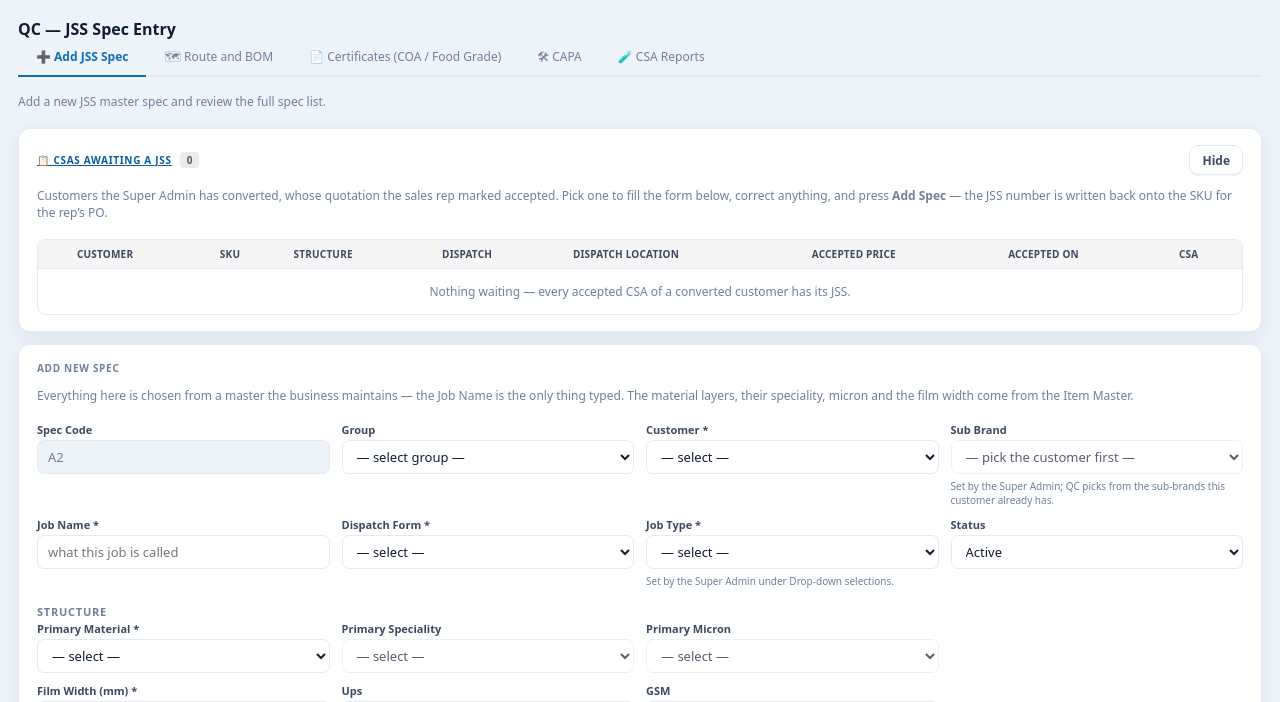
Test: QC — the spec form types nothing but the job name › narrows speciality, micron and film width — and says which width a layer is missing
The width and height of the screenshot is (1280, 702).
Expected: the text "Add New Spec" is shown, [37,361,120,375]
Step 1. Select "Lami Pouch" in the dropdown named "Job Type" → coordinates (792, 552), box [646,535,938,569]
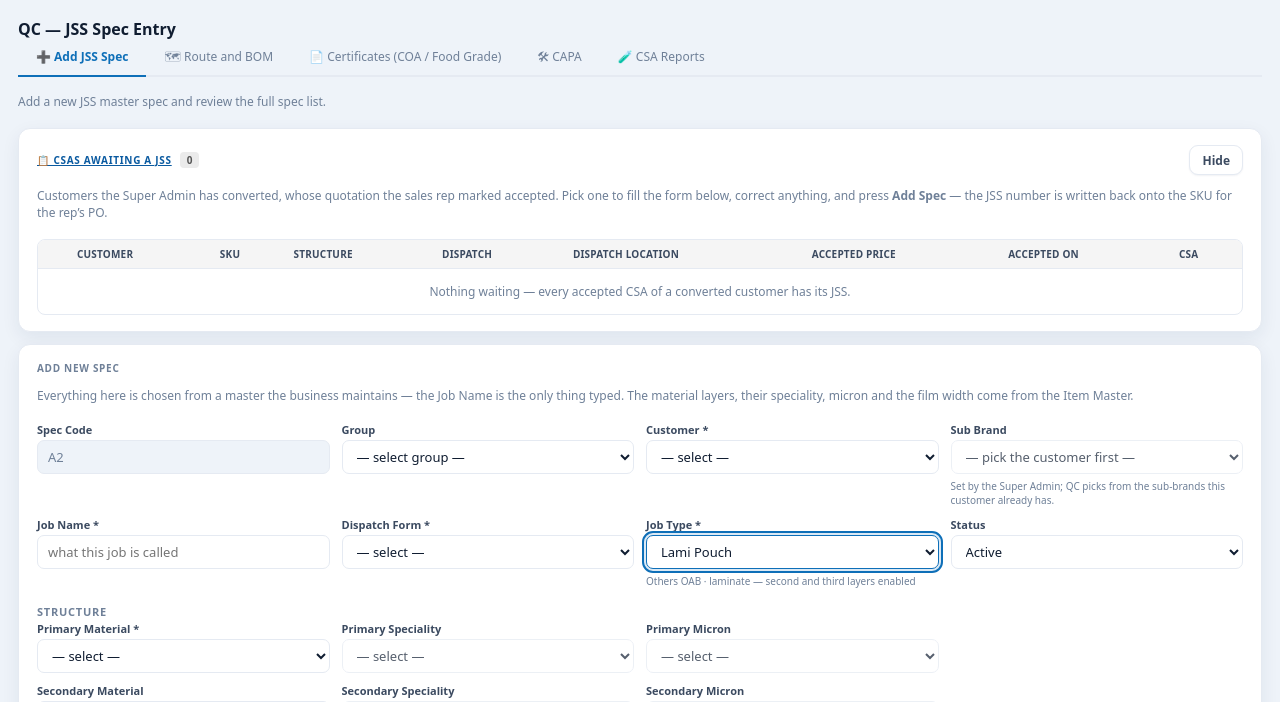
Step 2. Select "CC PET" in the dropdown named "Primary Material" → coordinates (183, 656), box [37,639,330,673]
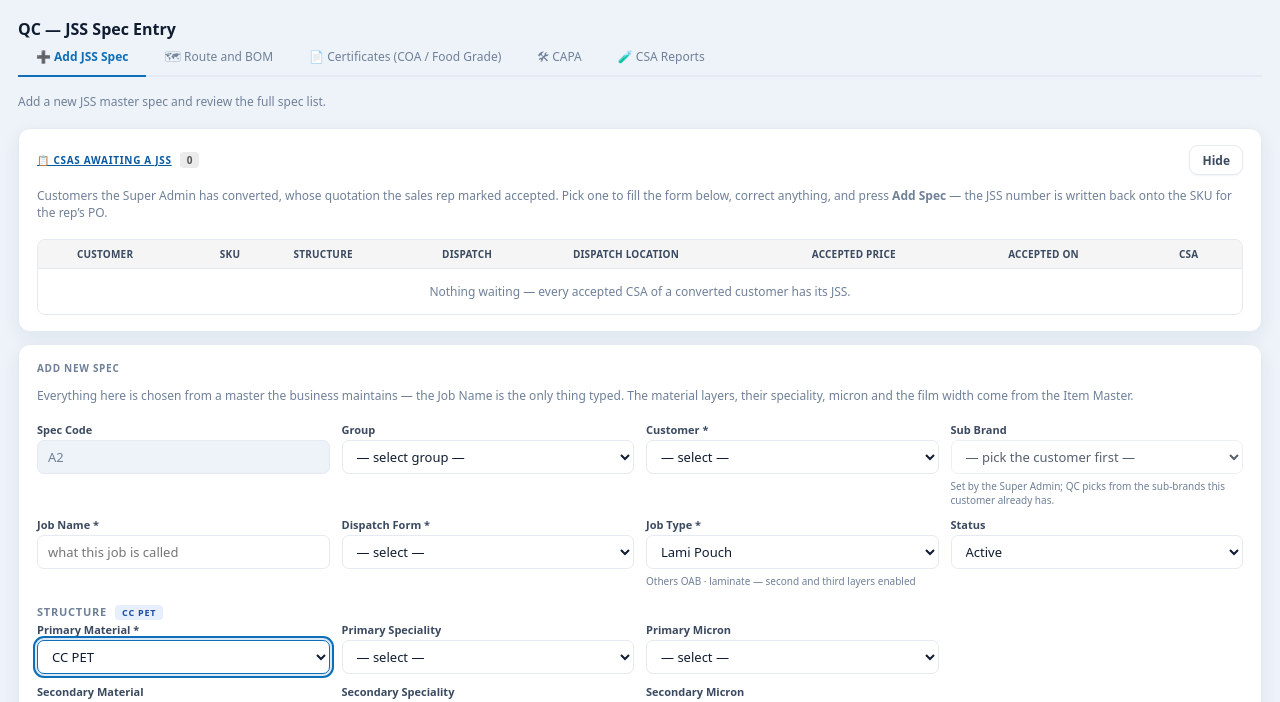
Step 3. Select "PLAIN" in the dropdown named "Primary Speciality" → coordinates (488, 657), box [342,640,634,674]
(page scrolled)
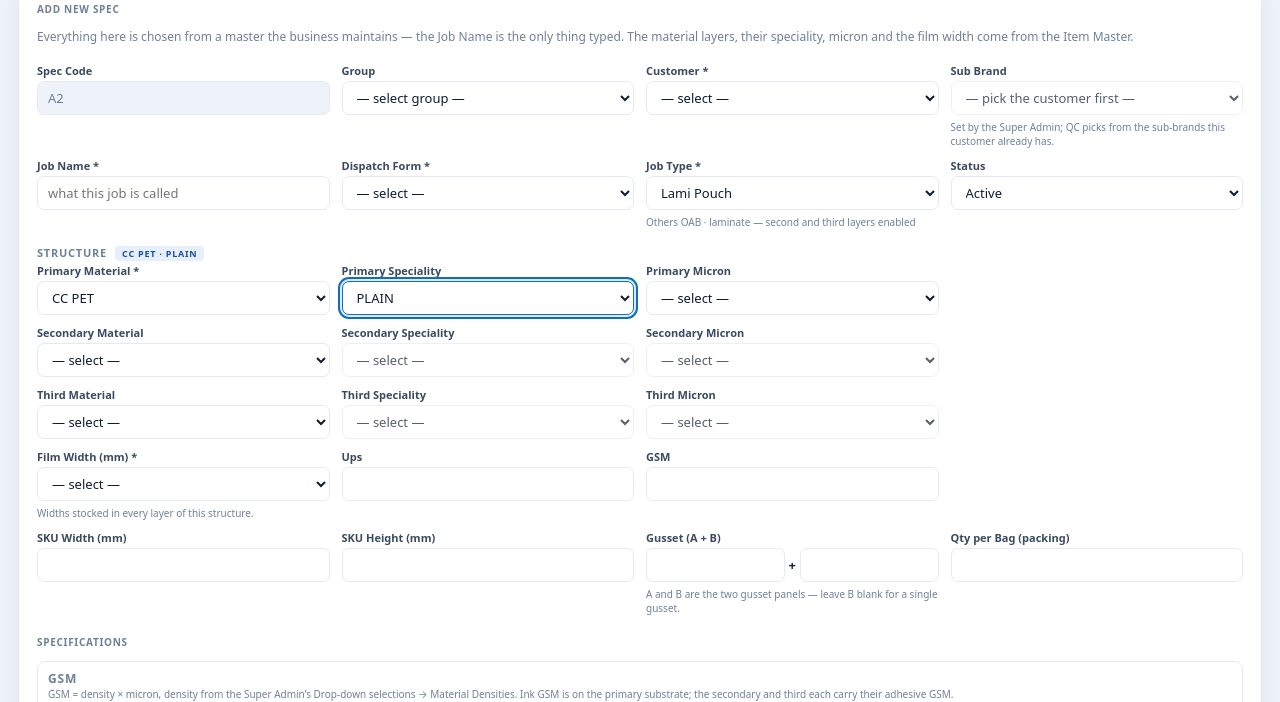
Note: add LDPE - NATURAL, which has no 600 — the width goes away and is explained
Step 4. Select "LDPE - NATURAL" in the dropdown named "Secondary Material" → coordinates (183, 360), box [37,343,330,377]
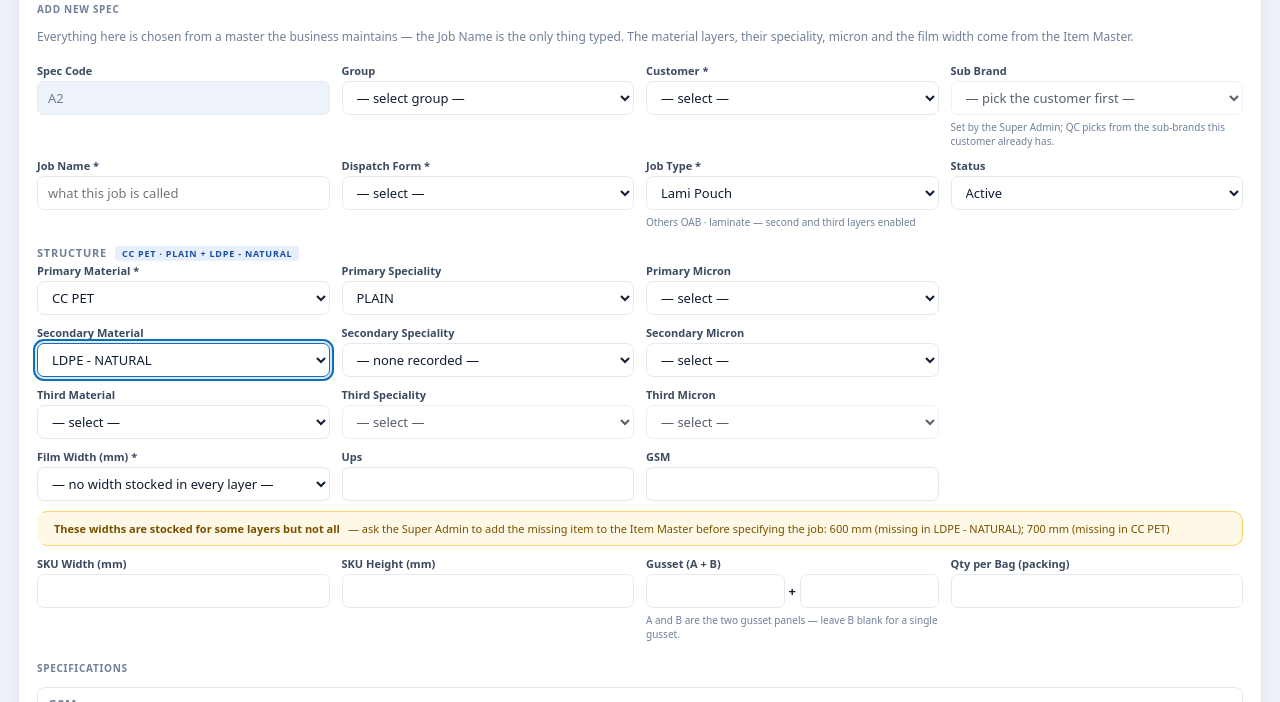
Result: the element named "Film width not in every layer" shows "600 mm (missing in LDPE - NATURAL)" at [830,521,1169,536]
